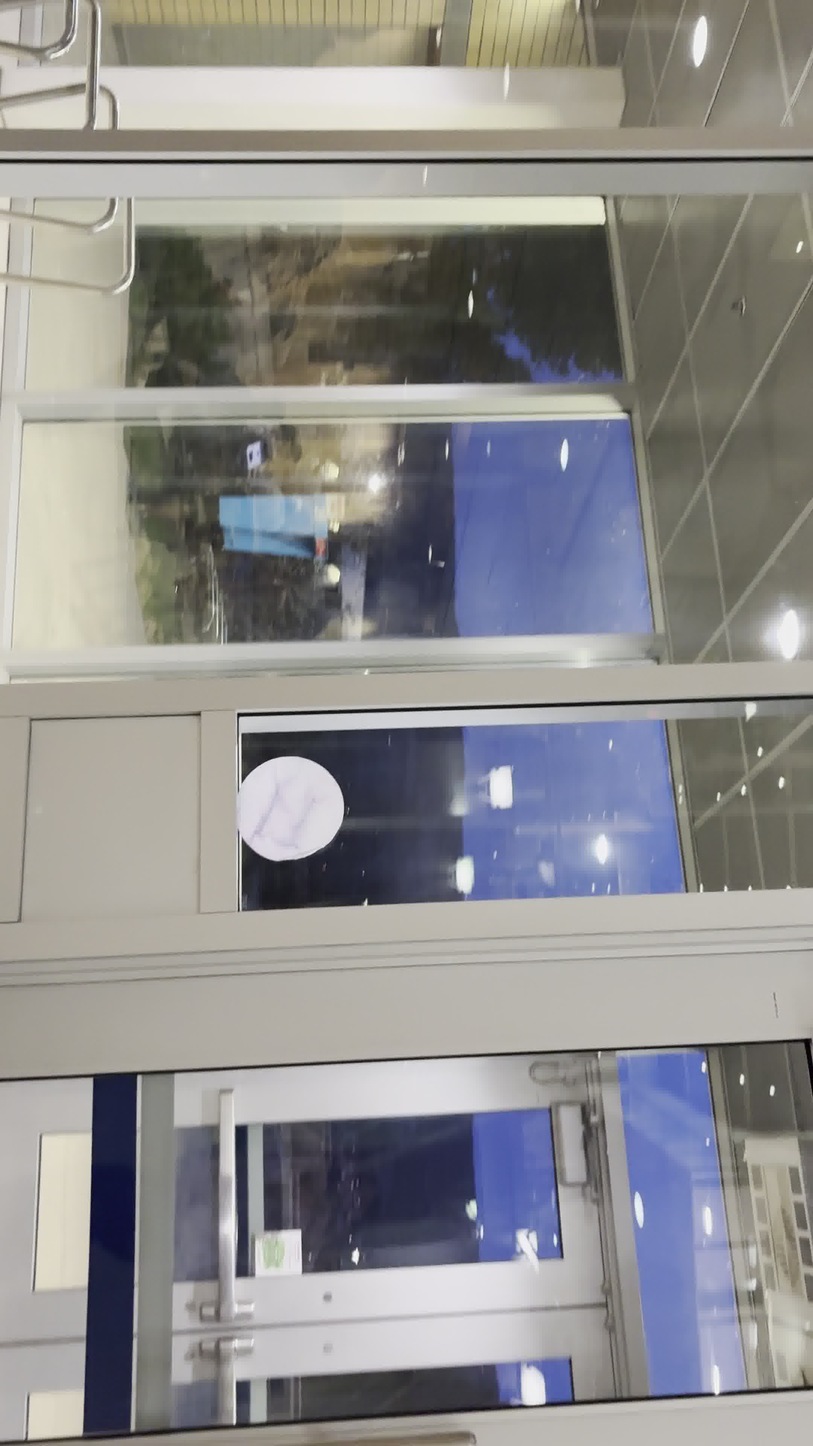Target: (235, 753, 347, 864)
